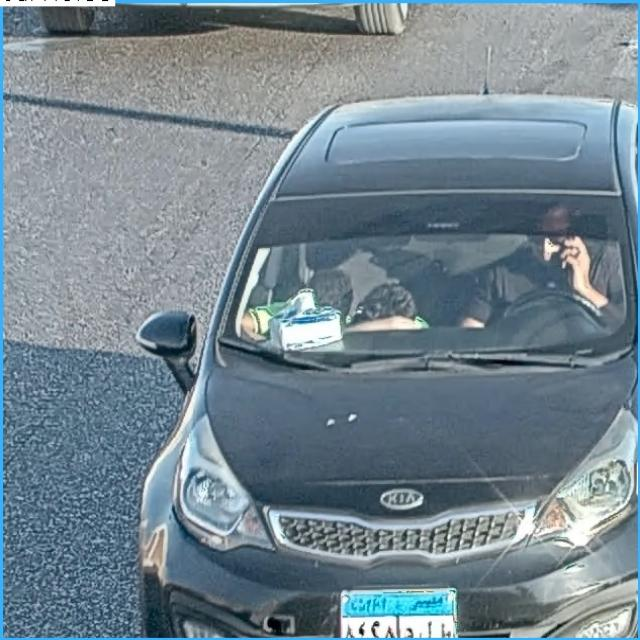windshield: (211, 196, 637, 356)
